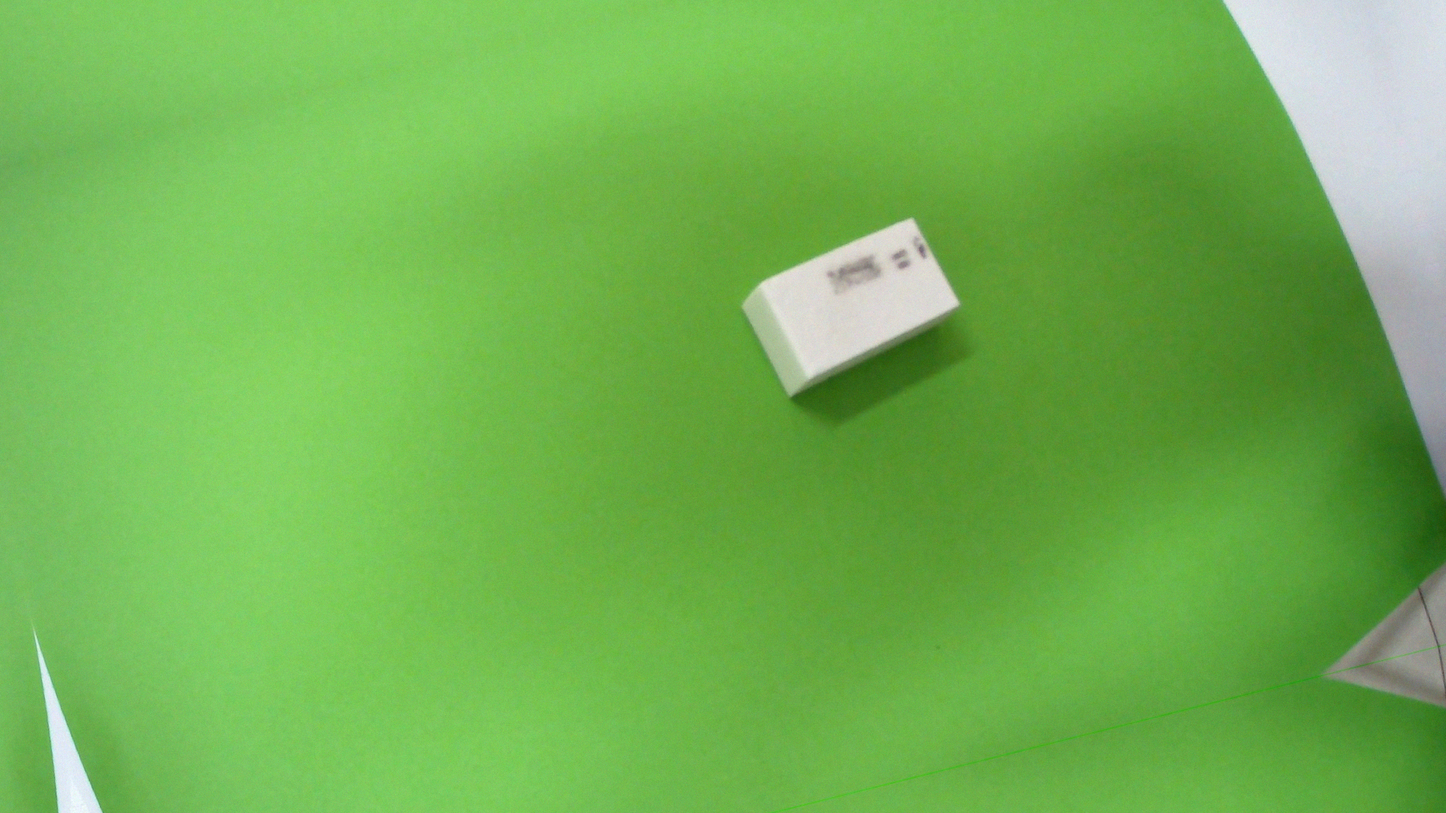gom: (731, 204, 971, 410)
